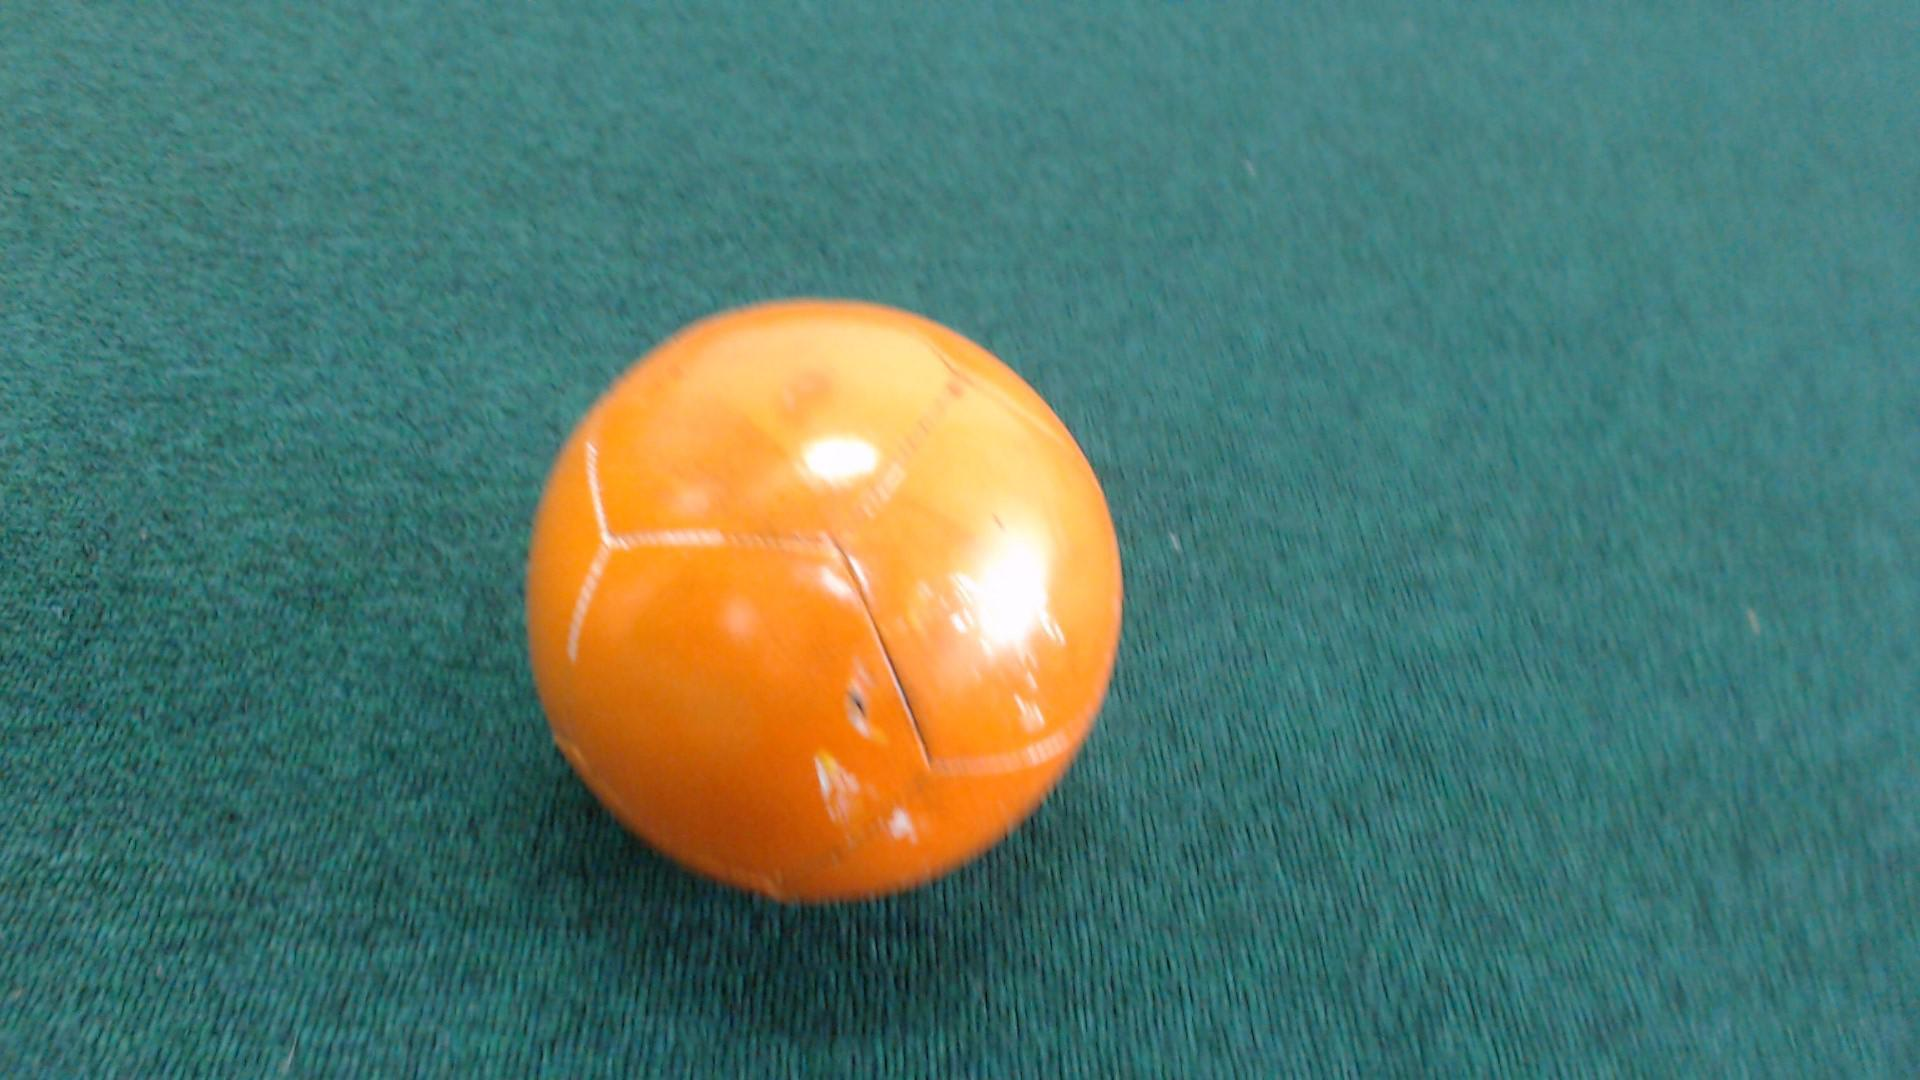bola: (498, 298, 1138, 915)
